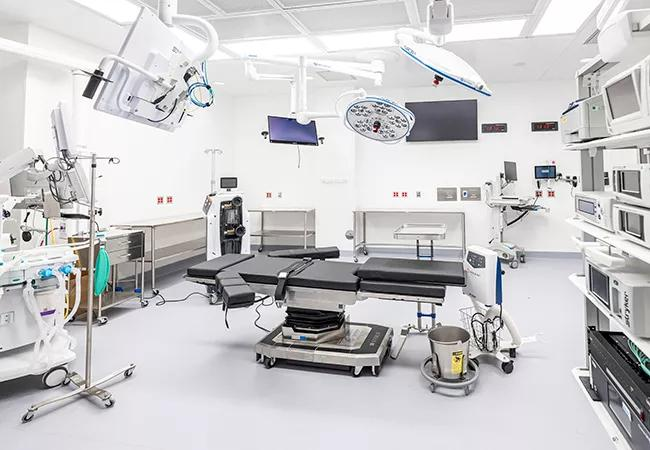Monitor: (40, 85, 92, 179), (492, 154, 525, 198), (218, 173, 241, 191)
Saline Stand: (23, 145, 156, 424), (183, 143, 218, 231)
bed: (183, 243, 459, 378)
bin: (422, 313, 478, 394)
